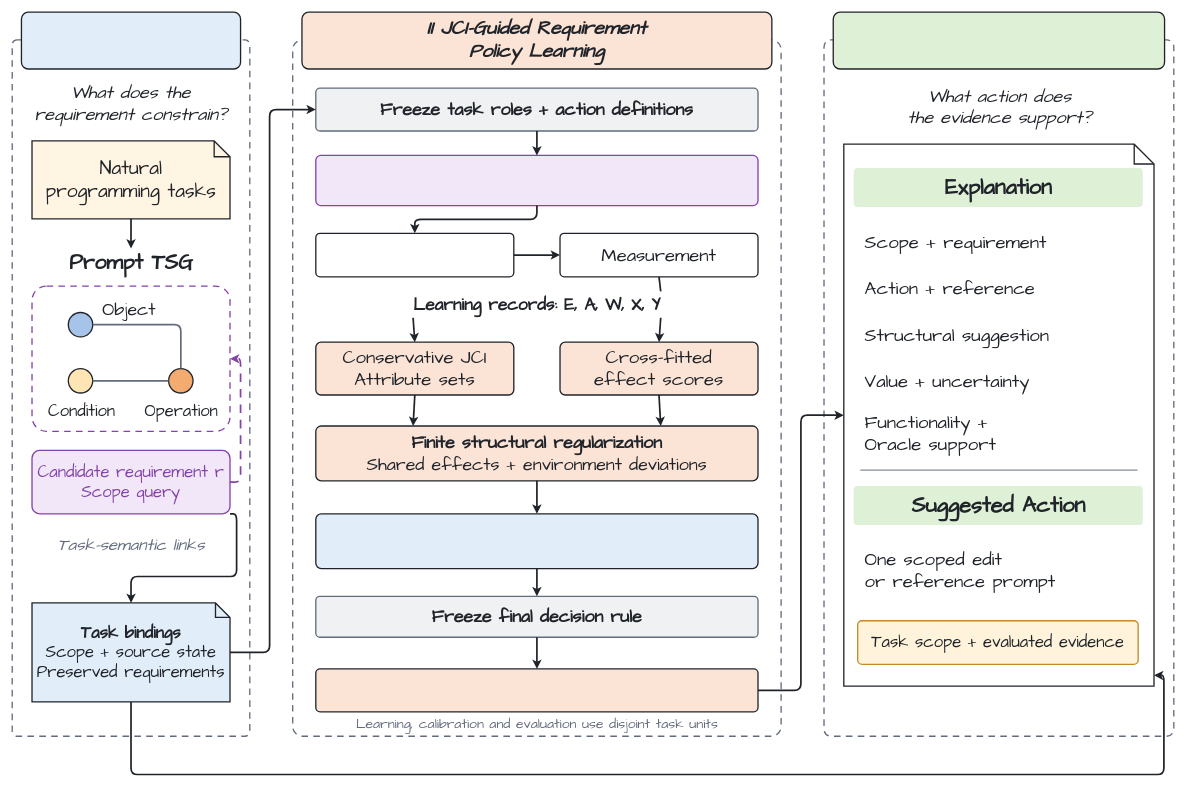
This 1185x792 diagram has some shape labels left out. Each missing label, with the box of its shape:
I Structured Graph Representation: (20, 11, 241, 69)
III Evidence-Grounded Explanations & Guidance: (832, 11, 1165, 69)
Independent calibration Choose model + editing threshold: (315, 513, 758, 569)
Independent policy evaluation: (315, 668, 758, 712)
LLM generation: (315, 232, 514, 277)
Randomized single-requirement actions Reference or one scoped edit: (315, 154, 758, 206)
Task scope + preserved requirements: (290, 744, 851, 772)
